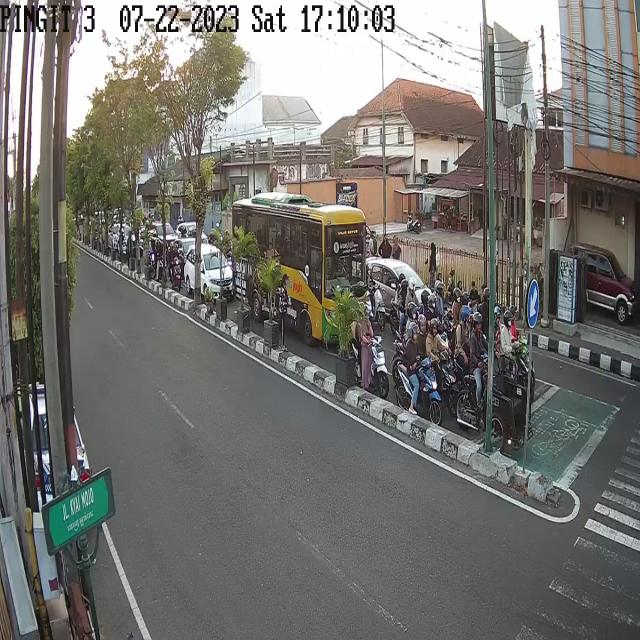bus: (229, 188, 369, 348)
car: (575, 244, 637, 325), (368, 254, 434, 322), (185, 242, 234, 302), (149, 219, 179, 258)
motorcycle: (395, 319, 441, 427), (418, 312, 461, 417), (494, 309, 534, 398), (353, 303, 388, 399), (396, 274, 424, 343), (363, 262, 386, 328), (167, 240, 182, 290)
